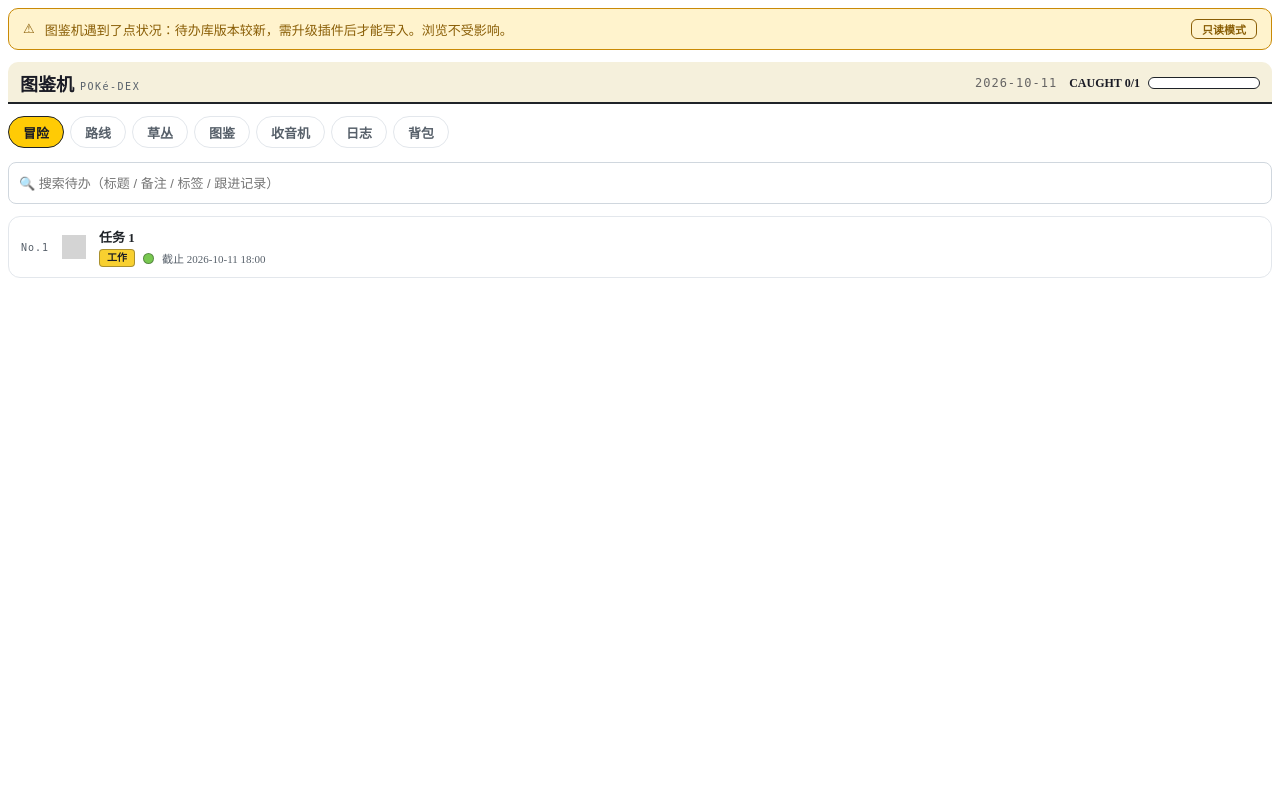
PluginDetailPage · 只读传播（DB_SCHEMA_TOO_NEW） › mode=ro 时顶部持久横幅 + 任务卡操作与发报禁用
This screenshot has width=1280, height=800.
Expected: the message with test id "schema-banner" shows "待办库版本较新", [45, 22, 513, 38]
Expected: the text "只读模式" is shown, [1191, 19, 1257, 39]
//  收音机发报禁用
Click the button "收音机".
click(291, 132)  # box [256, 116, 325, 148]
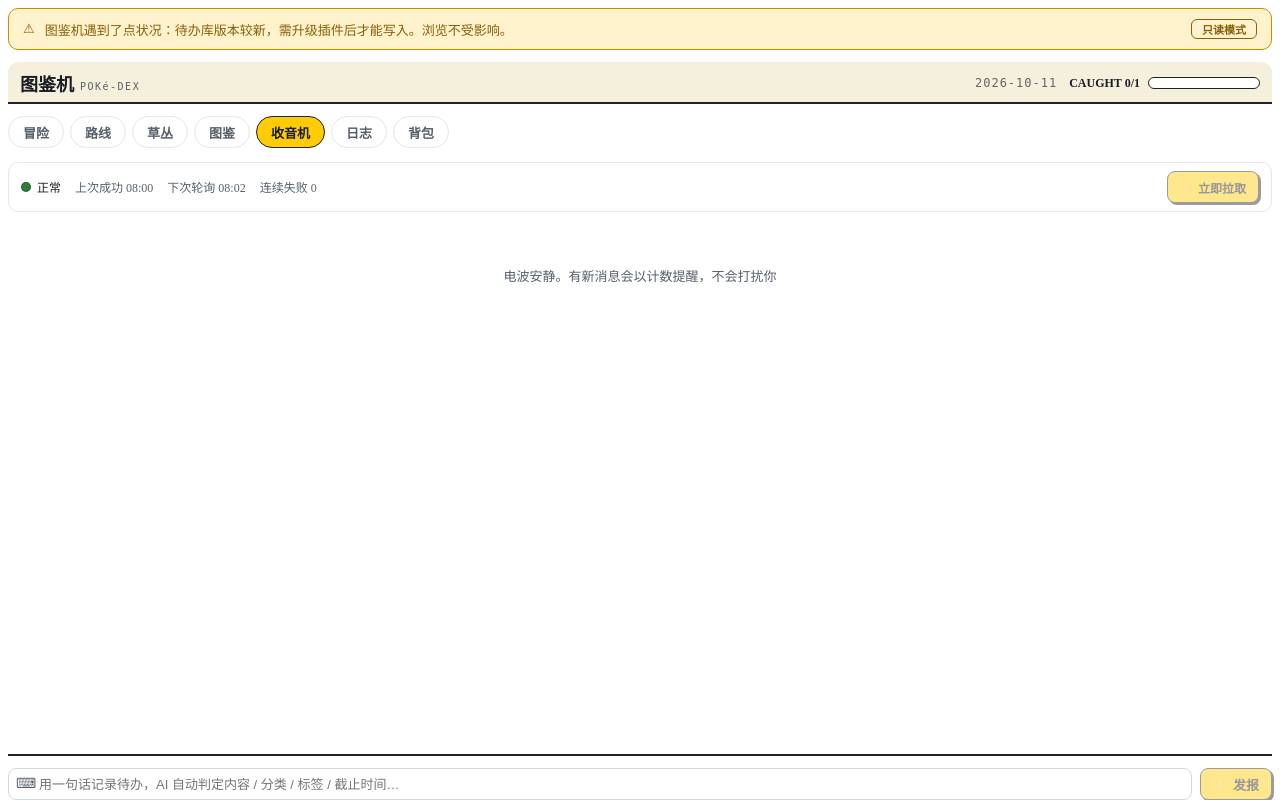
Expected: the field labelled "用一句话记录待办，AI 自动判定内容 / 分类 / 标签 / 截止时间…" is disabled, [8, 768, 1192, 799]
